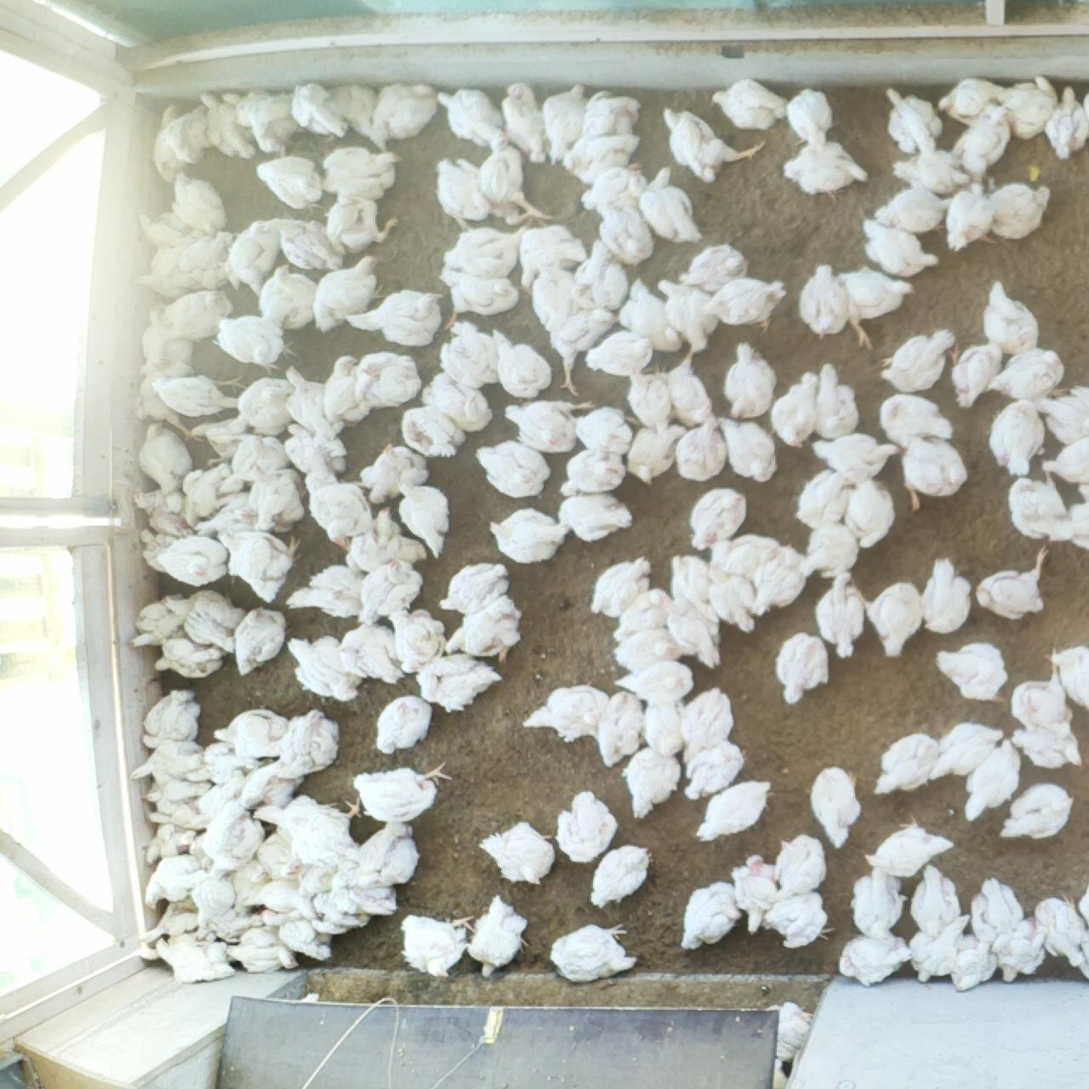chicken: (658, 103, 768, 183), (829, 266, 916, 351), (476, 133, 552, 225), (213, 528, 304, 603), (546, 306, 620, 395), (352, 761, 456, 824), (347, 288, 448, 349), (973, 545, 1055, 620), (498, 398, 599, 458), (522, 678, 612, 745), (312, 256, 388, 335), (547, 921, 639, 986), (861, 816, 957, 878), (253, 794, 364, 847), (133, 356, 203, 440), (284, 365, 347, 457), (213, 305, 294, 376), (875, 327, 958, 396), (616, 277, 690, 354), (638, 164, 705, 249), (516, 222, 595, 294), (854, 580, 926, 659), (858, 210, 939, 280), (778, 142, 870, 203), (445, 595, 525, 664), (442, 223, 532, 284), (530, 252, 593, 339), (654, 277, 721, 357), (902, 434, 967, 516), (653, 595, 723, 671), (904, 910, 972, 988), (479, 818, 558, 885), (469, 894, 529, 982), (1031, 892, 1089, 983), (417, 655, 502, 717), (283, 817, 366, 880), (554, 788, 621, 866), (694, 778, 775, 842), (1011, 656, 1075, 737), (398, 912, 474, 980), (961, 740, 1023, 823), (287, 635, 363, 702), (748, 543, 813, 621), (438, 268, 521, 329), (805, 764, 863, 851), (702, 276, 790, 333), (808, 431, 899, 486), (206, 798, 268, 878), (760, 891, 841, 952), (656, 348, 717, 429), (353, 440, 431, 503), (873, 731, 946, 798), (351, 821, 425, 887), (987, 398, 1048, 478), (162, 591, 243, 651), (368, 82, 438, 151), (354, 558, 425, 626), (589, 556, 657, 627), (420, 369, 494, 434), (324, 145, 405, 204), (914, 556, 975, 634), (681, 879, 746, 952), (211, 706, 295, 762), (440, 319, 507, 389), (274, 710, 340, 781), (1007, 473, 1073, 544), (591, 688, 648, 770), (489, 328, 553, 401), (620, 746, 683, 820), (925, 723, 1005, 781), (570, 237, 631, 313), (998, 781, 1074, 842), (337, 618, 406, 685), (849, 865, 909, 942), (243, 463, 308, 534), (814, 572, 867, 659), (487, 507, 565, 566), (435, 559, 511, 619), (355, 350, 422, 418), (753, 998, 819, 1067), (953, 103, 1012, 180), (987, 73, 1055, 139), (256, 263, 321, 332), (986, 347, 1066, 403), (556, 490, 637, 545), (228, 218, 281, 302), (285, 564, 369, 617), (231, 377, 305, 437), (837, 930, 911, 990), (678, 686, 737, 761), (622, 422, 690, 487), (937, 640, 1006, 704), (150, 372, 248, 417), (723, 341, 778, 421), (136, 422, 197, 494), (477, 440, 549, 501), (394, 476, 448, 557), (540, 83, 592, 167), (589, 842, 655, 908), (798, 264, 856, 339), (877, 393, 954, 449), (982, 278, 1038, 355), (255, 155, 328, 214), (591, 200, 654, 268), (719, 412, 780, 482), (710, 77, 789, 131), (143, 852, 214, 912), (991, 914, 1051, 985), (327, 196, 400, 254), (871, 185, 954, 236), (312, 482, 375, 549), (610, 584, 677, 647), (435, 86, 503, 148), (322, 354, 376, 432), (935, 180, 994, 251), (259, 908, 335, 963), (703, 558, 758, 634), (688, 486, 751, 552), (386, 608, 447, 676), (434, 157, 490, 231), (775, 630, 831, 704), (155, 936, 236, 987), (945, 338, 1003, 409), (224, 926, 303, 978), (563, 134, 643, 185), (237, 605, 291, 680), (909, 862, 965, 934), (684, 739, 749, 801), (132, 738, 208, 791), (811, 360, 860, 442), (158, 289, 232, 343), (985, 184, 1055, 241), (888, 148, 974, 194), (198, 92, 257, 159), (346, 507, 404, 575), (614, 658, 696, 706), (192, 489, 269, 540), (177, 229, 239, 292), (274, 215, 345, 270), (581, 329, 657, 380), (399, 403, 468, 459), (154, 535, 228, 587), (141, 687, 203, 749), (798, 520, 863, 579), (558, 445, 629, 499), (501, 82, 547, 165), (772, 368, 819, 449), (971, 877, 1026, 946), (732, 850, 776, 936), (190, 414, 260, 468), (845, 480, 899, 550), (679, 243, 753, 293), (583, 161, 649, 217), (280, 420, 347, 475), (673, 415, 728, 482), (373, 695, 434, 755), (170, 171, 229, 233), (773, 835, 829, 899), (610, 625, 681, 675), (795, 467, 852, 529), (141, 897, 214, 945), (1011, 723, 1084, 771), (936, 77, 1009, 125), (1043, 86, 1089, 162), (143, 822, 215, 870), (637, 690, 687, 759), (579, 89, 644, 142), (128, 597, 194, 649), (240, 758, 306, 810), (138, 306, 195, 366), (567, 406, 638, 454), (251, 92, 301, 160), (181, 463, 231, 531), (667, 551, 717, 619), (625, 367, 675, 435), (332, 869, 401, 918), (883, 84, 930, 155), (721, 531, 784, 583), (131, 486, 195, 537), (138, 776, 212, 820), (243, 869, 315, 914), (299, 894, 371, 939), (190, 738, 261, 783), (154, 637, 229, 679), (1045, 641, 1089, 712), (787, 87, 838, 148), (292, 83, 346, 140), (1037, 385, 1089, 444), (256, 829, 316, 880), (297, 443, 346, 505), (950, 931, 999, 993), (150, 103, 187, 185), (138, 247, 197, 298), (230, 433, 294, 480), (165, 104, 212, 164), (137, 526, 193, 576), (139, 208, 200, 252), (1040, 433, 1089, 486), (145, 802, 213, 840), (295, 855, 355, 898), (192, 907, 265, 942), (230, 853, 271, 915), (199, 775, 250, 822), (336, 82, 376, 141), (222, 90, 274, 135), (192, 868, 229, 927), (748, 1055, 810, 1089), (1063, 483, 1089, 553), (187, 829, 226, 874), (1074, 886, 1089, 942)
